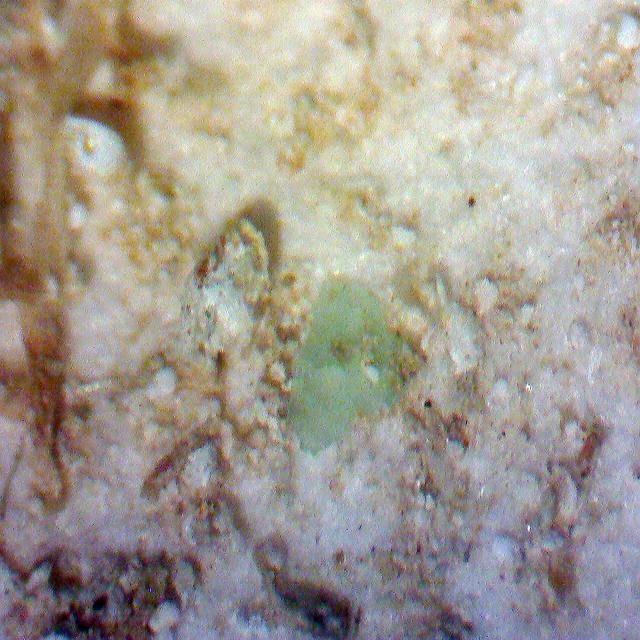microplastic: (284, 275, 422, 454)
